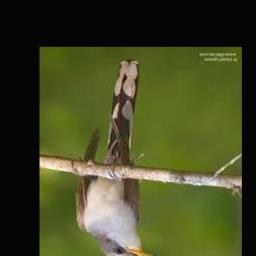Cuckoo: (75, 60, 157, 256)
